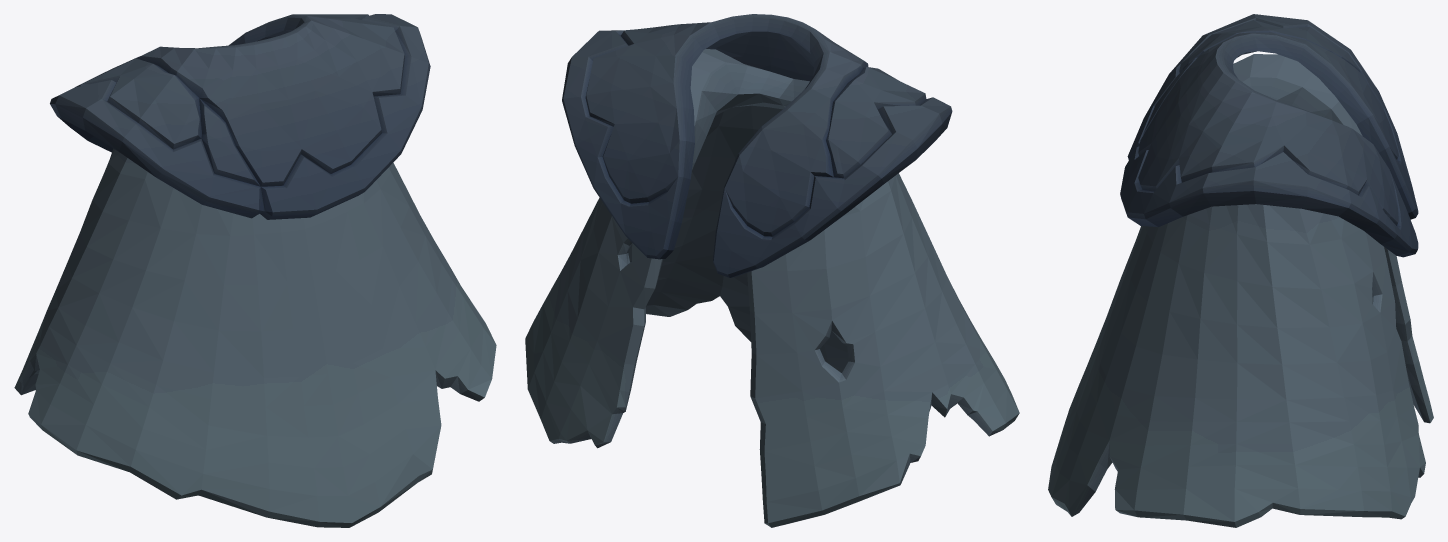
The model's file is CharSkyKid_Wing_AP11Tattered_01.glb.
3 views of the same model, side by side, from view 1: azimuth 30°, elevation 25°; view 2: azimuth 150°, elevation 25°; view 3: azimuth 270°, elevation 25° (orthographic). The views are drawn at different scales.
Parts seen in each view (by area): view 1: CharSkyKid_Wing_AP11Tattered_01; view 2: CharSkyKid_Wing_AP11Tattered_01; view 3: CharSkyKid_Wing_AP11Tattered_01.
Boxes of the visible parts, left/top/right/bottom form: CharSkyKid_Wing_AP11Tattered_01: left=14, top=14, right=496, bottom=527; CharSkyKid_Wing_AP11Tattered_01: left=525, top=14, right=1019, bottom=527; CharSkyKid_Wing_AP11Tattered_01: left=1048, top=14, right=1433, bottom=527.
Bounding box in the file's own units: 7.44 × 6.83 × 5.43.
Materials: 1 (1 with a texture image).
